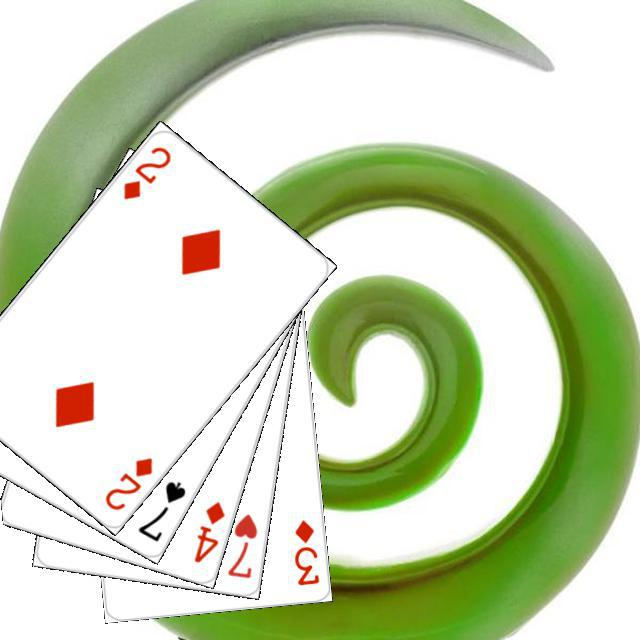2d: (99, 452, 155, 513), (118, 141, 173, 202)
3d: (289, 515, 321, 588)
4d: (189, 496, 227, 565)
7h: (222, 509, 259, 580)
7s: (133, 476, 188, 544)
